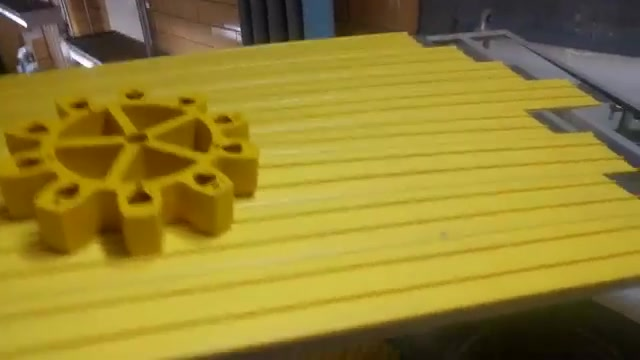gear: (1, 67, 262, 266)
